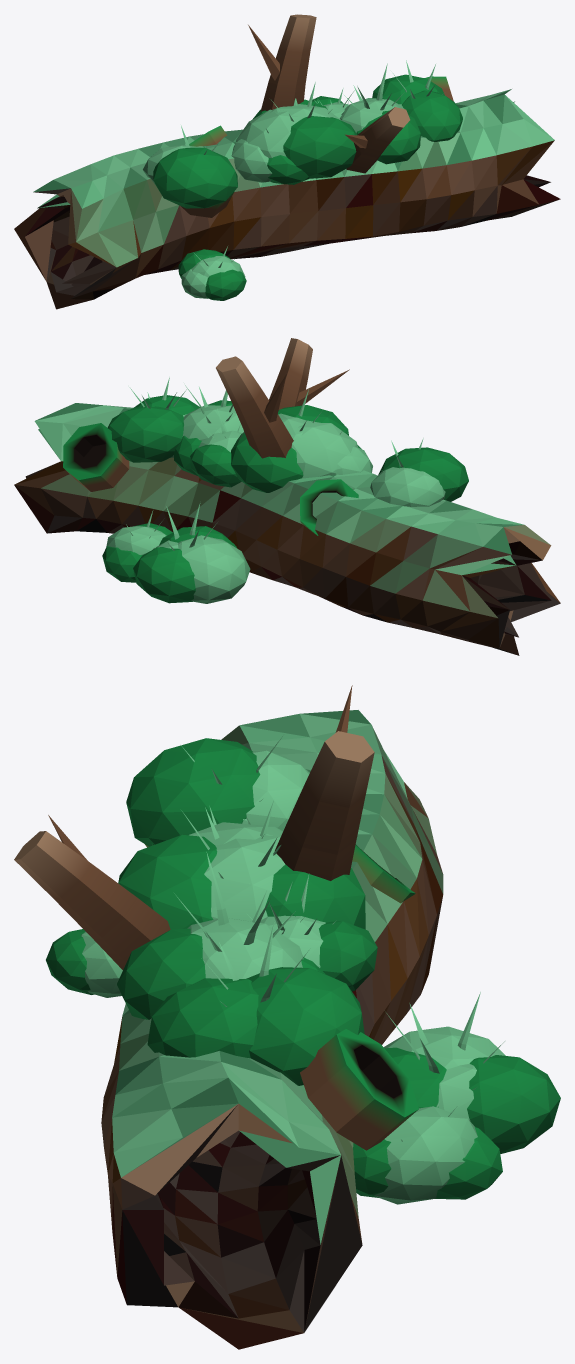
Rendered from pohon_tumbang_hollow_rainforest_91827.glb.
The picture shows the model from 3 angles, top to bottom: view 1: azimuth 30°, elevation 25°; view 2: azimuth 150°, elevation 25°; view 3: azimuth 270°, elevation 25°; orthographic projection. The views are drawn at different scales.
Parts seen in each view (by area): view 1: Batang_Pohon_Berlubang; view 2: Batang_Pohon_Berlubang; view 3: Batang_Pohon_Berlubang.
Boxes of the visible parts, x1,y1,x2,y2 form: Batang_Pohon_Berlubang: [14, 14, 560, 309]; Batang_Pohon_Berlubang: [14, 338, 560, 655]; Batang_Pohon_Berlubang: [14, 685, 560, 1349].
Bounding box in the file's own units: 6.55 × 2.99 × 3.38.
